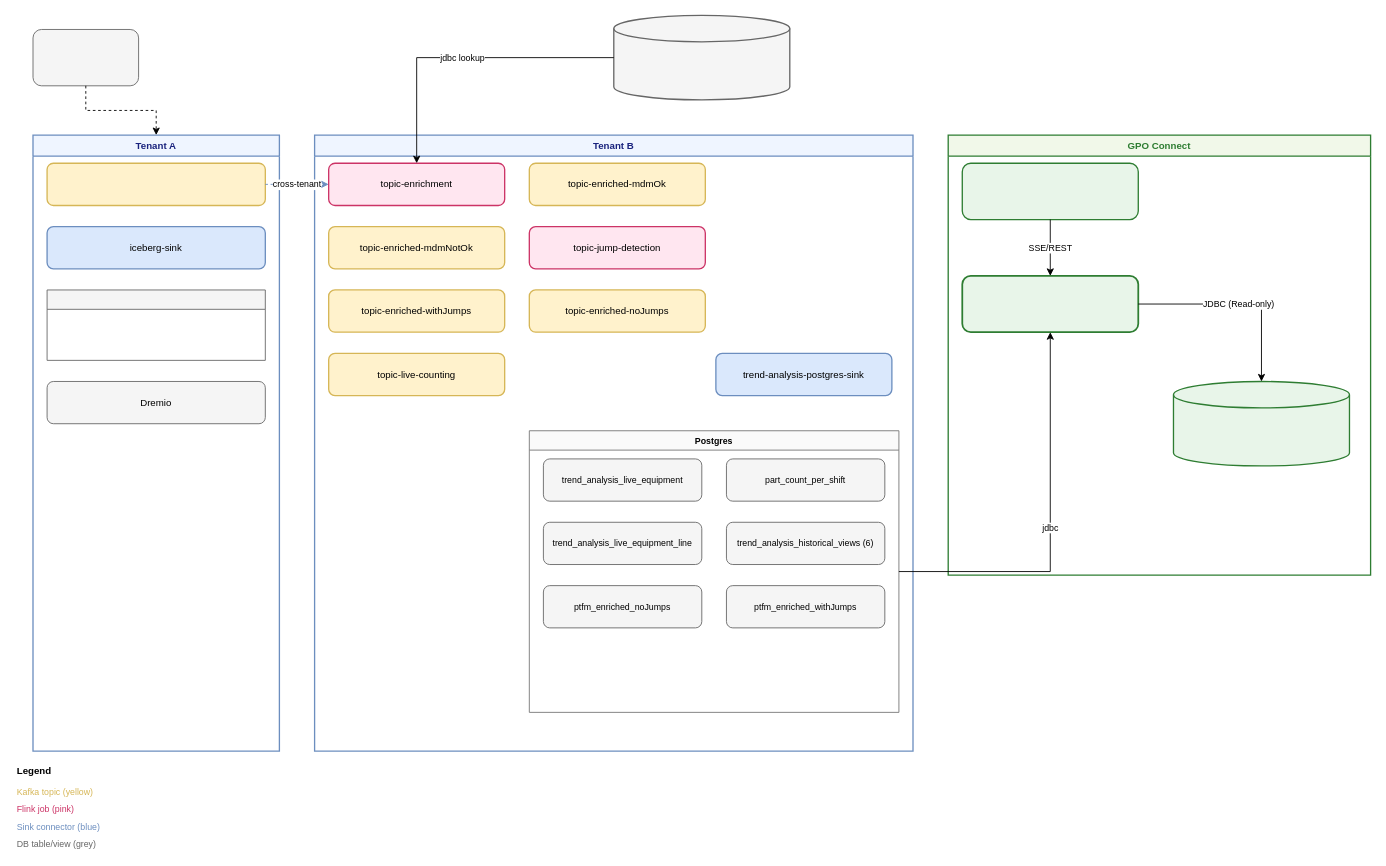
The diagram is 1386 pixels wide and 866 high, and some of its shapes have lost their labels. Here are the shapes that lost their labels. From the top down, the centre of each, then its label:
At [85,57]: "DAS".
At [701,57]: "MDM DB SQLServer".
At [156,184]: "topic-normalized".
At [1050,191]: "Prisma-X UI Angular".
At [155,324]: "Iceberg topic-normalized".
At [1050,304]: "Restful API Microservice (.Net)".
At [1261,423]: "Prisma-X DB PostgreSQL".
